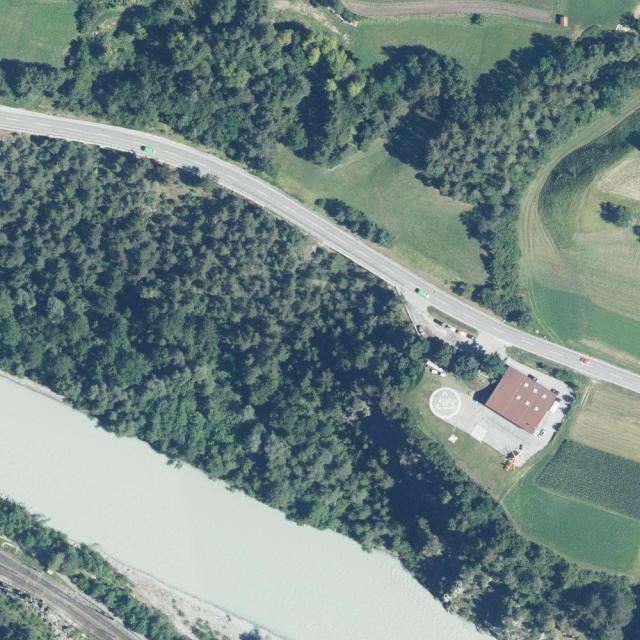agricultural_land: (533, 435, 640, 519)
building: (485, 365, 558, 436)
greenland: (259, 96, 519, 302), (519, 88, 640, 254), (398, 364, 526, 511), (349, 15, 574, 79), (527, 87, 640, 180), (419, 324, 510, 395), (310, 189, 399, 252), (560, 576, 622, 632), (594, 571, 640, 631), (560, 0, 639, 27), (622, 584, 640, 639)
metalled_road: (423, 385, 567, 471), (503, 351, 575, 401)
